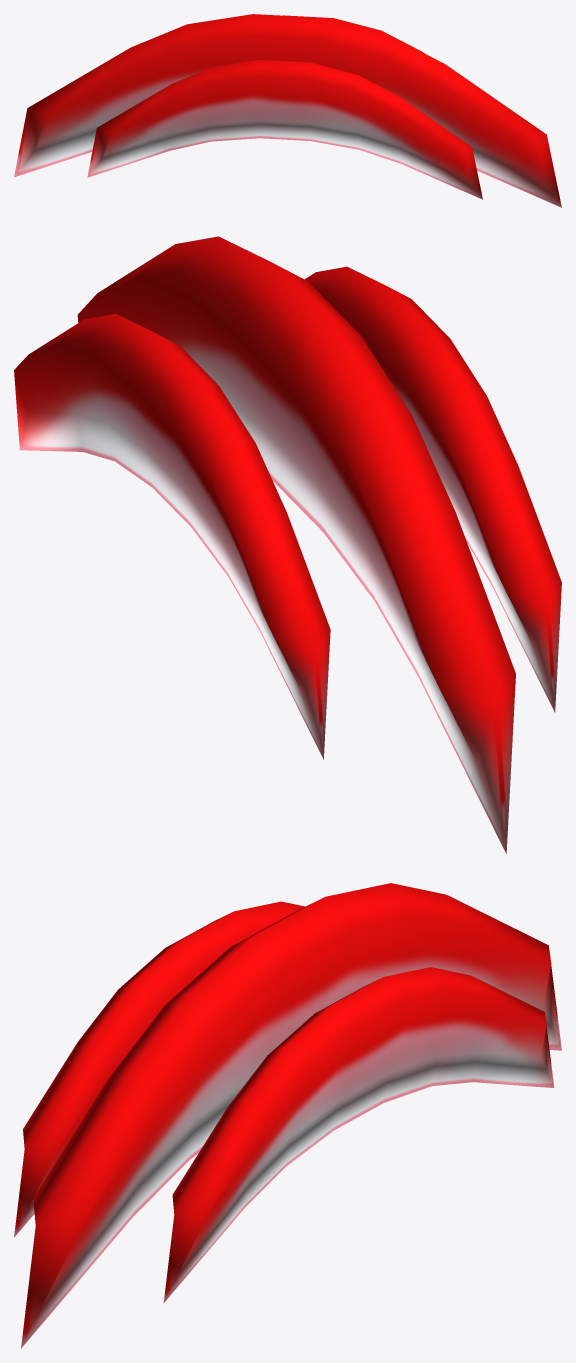
Rendered from projectile aul.fbx.
The picture shows the model from 3 angles, top to bottom: view 1: azimuth 30°, elevation 25°; view 2: azimuth 150°, elevation 25°; view 3: azimuth 270°, elevation 25°; orthographic projection. The views are drawn at different scales.
Parts seen in each view (by area): view 1: Cube.001; view 2: Cube.001; view 3: Cube.001.
Boxes of the visible parts, x1,y1,x2,y2 form: Cube.001: (14, 14, 561, 207); Cube.001: (14, 236, 561, 853); Cube.001: (14, 883, 561, 1348).
Bounding box in the file's own units: 172 × 76.56 × 134.
1 material, 1 textured.
